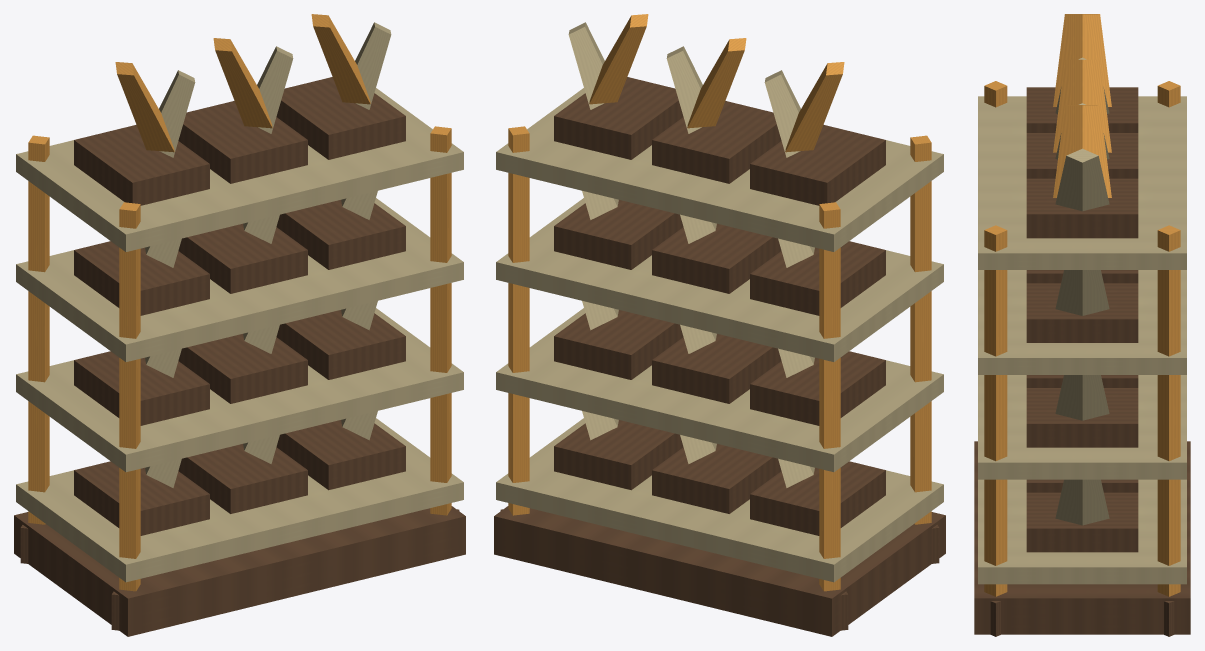
The model's file is atlas100-s014-a02.lod2.glb.
3 views of the same model, side by side, from view 1: azimuth 30°, elevation 25°; view 2: azimuth 150°, elevation 25°; view 3: azimuth 270°, elevation 25° (orthographic). The views are drawn at different scales.
Visible parts, largest first — view 1: atlas100-s014-a02:part-000, atlas100-s014-a02:part-041, atlas100-s014-a02:part-021, atlas100-s014-a02:part-011, atlas100-s014-a02:part-031, atlas100-s014-a02:part-042, atlas100-s014-a02:part-045, atlas100-s014-a02:part-048, atlas100-s014-a02:part-005, atlas100-s014-a02:part-009, atlas100-s014-a02:part-003, atlas100-s014-a02:part-035 (+23 smaller); view 2: atlas100-s014-a02:part-000, atlas100-s014-a02:part-041, atlas100-s014-a02:part-021, atlas100-s014-a02:part-011, atlas100-s014-a02:part-031, atlas100-s014-a02:part-042, atlas100-s014-a02:part-045, atlas100-s014-a02:part-048, atlas100-s014-a02:part-003, atlas100-s014-a02:part-007, atlas100-s014-a02:part-005, atlas100-s014-a02:part-035 (+23 smaller); view 3: atlas100-s014-a02:part-041, atlas100-s014-a02:part-000, atlas100-s014-a02:part-011, atlas100-s014-a02:part-021, atlas100-s014-a02:part-031, atlas100-s014-a02:part-007, atlas100-s014-a02:part-009, atlas100-s014-a02:part-018, atlas100-s014-a02:part-028, atlas100-s014-a02:part-038, atlas100-s014-a02:part-048, atlas100-s014-a02:part-045 (+15 smaller).
Boxes of the visible parts, bbox=[...] form: atlas100-s014-a02:part-000: bbox=[14, 506, 465, 636]; atlas100-s014-a02:part-041: bbox=[16, 88, 463, 251]; atlas100-s014-a02:part-021: bbox=[16, 308, 463, 472]; atlas100-s014-a02:part-011: bbox=[16, 418, 463, 582]; atlas100-s014-a02:part-031: bbox=[16, 198, 463, 361]; atlas100-s014-a02:part-042: bbox=[74, 124, 209, 205]; atlas100-s014-a02:part-045: bbox=[178, 101, 307, 183]; atlas100-s014-a02:part-048: bbox=[276, 77, 405, 159]; atlas100-s014-a02:part-005: bbox=[119, 202, 140, 591]; atlas100-s014-a02:part-009: bbox=[430, 126, 451, 515]; atlas100-s014-a02:part-003: bbox=[28, 135, 49, 524]; atlas100-s014-a02:part-035: bbox=[178, 223, 307, 293]; atlas100-s014-a02:part-000: bbox=[494, 506, 945, 636]; atlas100-s014-a02:part-041: bbox=[496, 88, 943, 251]; atlas100-s014-a02:part-021: bbox=[496, 308, 943, 472]; atlas100-s014-a02:part-011: bbox=[496, 418, 943, 582]; atlas100-s014-a02:part-031: bbox=[496, 198, 943, 361]; atlas100-s014-a02:part-042: bbox=[750, 124, 885, 205]; atlas100-s014-a02:part-045: bbox=[652, 101, 781, 183]; atlas100-s014-a02:part-048: bbox=[554, 77, 683, 159]; atlas100-s014-a02:part-003: bbox=[819, 202, 840, 591]; atlas100-s014-a02:part-007: bbox=[508, 126, 529, 515]; atlas100-s014-a02:part-005: bbox=[910, 135, 931, 524]; atlas100-s014-a02:part-035: bbox=[652, 223, 781, 293]; atlas100-s014-a02:part-041: bbox=[978, 96, 1186, 269]; atlas100-s014-a02:part-000: bbox=[974, 441, 1190, 634]; atlas100-s014-a02:part-011: bbox=[978, 479, 1186, 584]; atlas100-s014-a02:part-021: bbox=[978, 375, 1186, 479]; atlas100-s014-a02:part-031: bbox=[978, 270, 1186, 374]; atlas100-s014-a02:part-007: bbox=[1157, 225, 1180, 596]; atlas100-s014-a02:part-009: bbox=[984, 225, 1007, 596]; atlas100-s014-a02:part-018: bbox=[1026, 492, 1138, 552]; atlas100-s014-a02:part-028: bbox=[1026, 388, 1138, 447]; atlas100-s014-a02:part-038: bbox=[1026, 283, 1138, 342]; atlas100-s014-a02:part-048: bbox=[1026, 178, 1138, 238]; atlas100-s014-a02:part-045: bbox=[1026, 133, 1138, 178].
Size of the model in its own units: 2.47 by 3.51 by 1.4.
3 materials, 3 textured.
